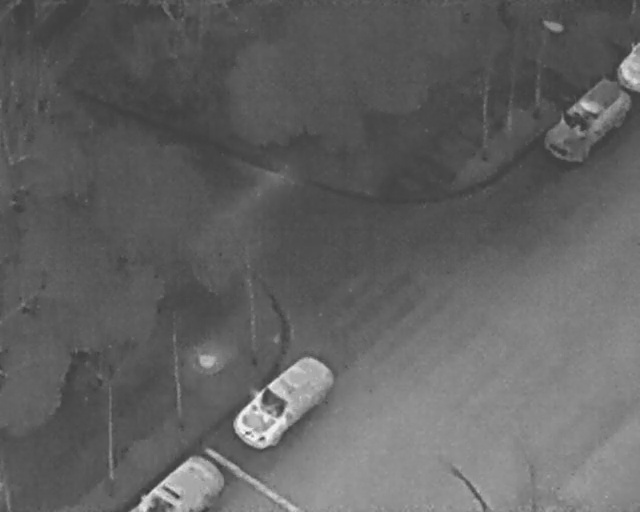Car: (224, 343, 339, 458), (535, 66, 638, 176), (123, 452, 226, 512)
